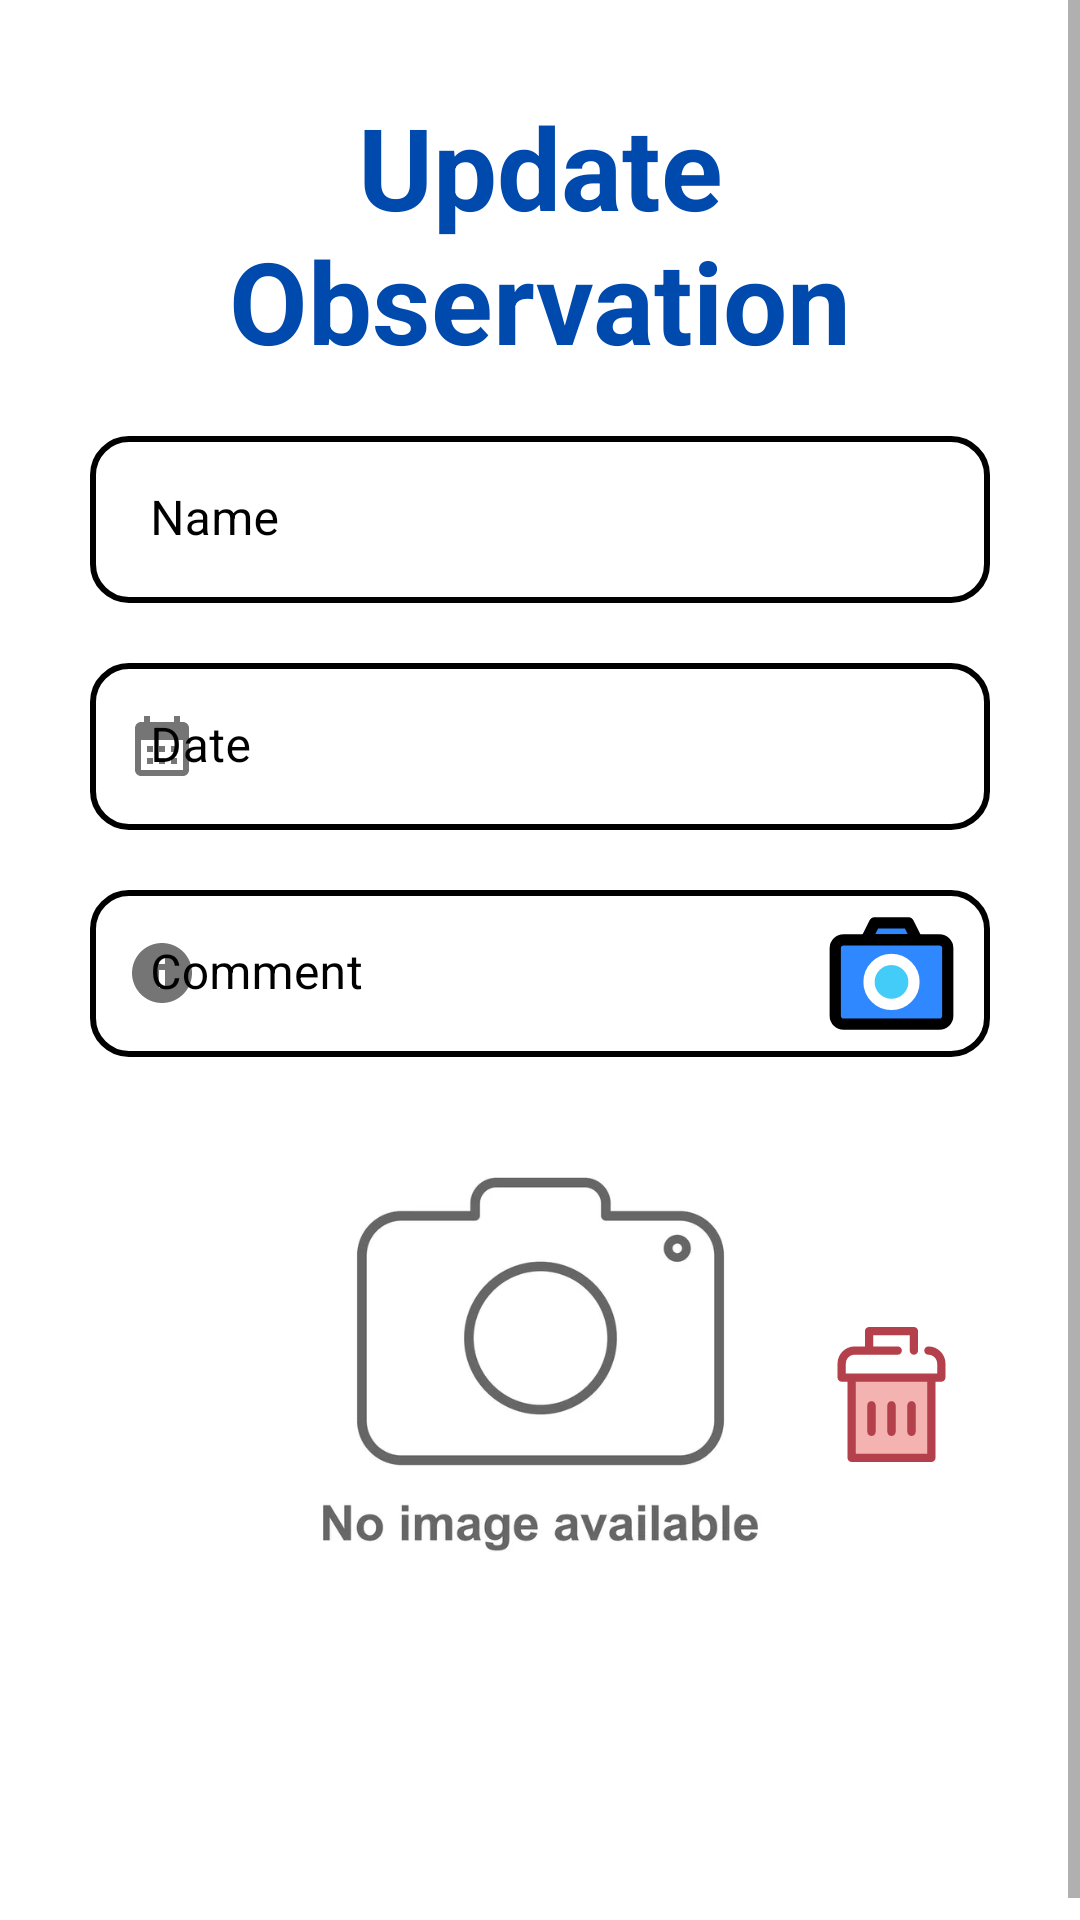

Icon bounding boxes for this 1080w x 1920h phone screenshot, format detection(x1, y1, x2, y2):
camera: detection(829, 917, 954, 1030)
delete: detection(837, 1327, 946, 1462)
